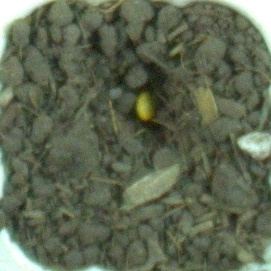chilli seed: (134, 89, 159, 122)
